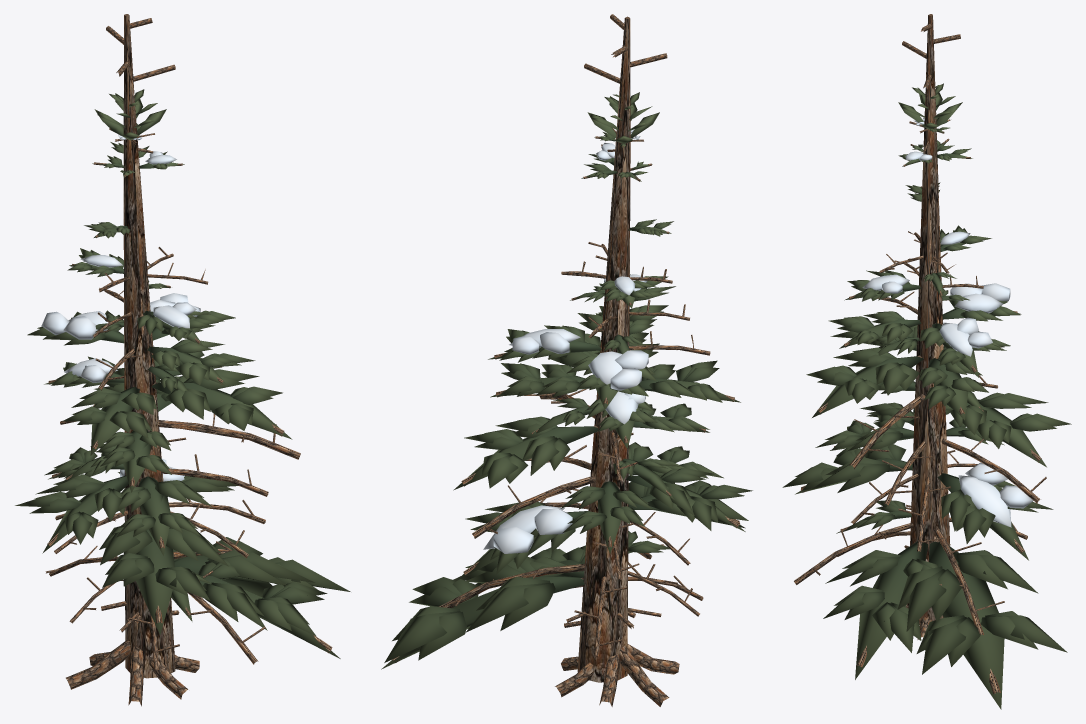
File: tree18.glb
3 renders of one model, left to right at view 1: azimuth 30°, elevation 25°; view 2: azimuth 150°, elevation 25°; view 3: azimuth 270°, elevation 25°, orthographic. The views are drawn at different scales.
Parts seen in each view (by area): view 1: Alpine18_1 (×2), Alpine18_0 (×2), Alpine18_2 (×2); view 2: Alpine18_1 (×2), Alpine18_0 (×2), Alpine18_2 (×2); view 3: Alpine18_1 (×2), Alpine18_0 (×2), Alpine18_2 (×2).
Part boxes in pixels (x1,y1,x2,y2): Alpine18_1 (×2): (15, 89, 350, 658); Alpine18_0 (×2): (45, 14, 332, 706); Alpine18_2 (×2): (41, 135, 200, 481); Alpine18_1 (×2): (381, 92, 752, 669); Alpine18_0 (×2): (392, 14, 739, 706); Alpine18_2 (×2): (483, 130, 648, 553); Alpine18_1 (×2): (782, 83, 1071, 709); Alpine18_0 (×2): (794, 14, 1046, 694); Alpine18_2 (×2): (862, 118, 1033, 527).
Size of the model in its own units: 6.64 by 13.27 by 5.77.
Materials: 6 (2 with a texture image).
